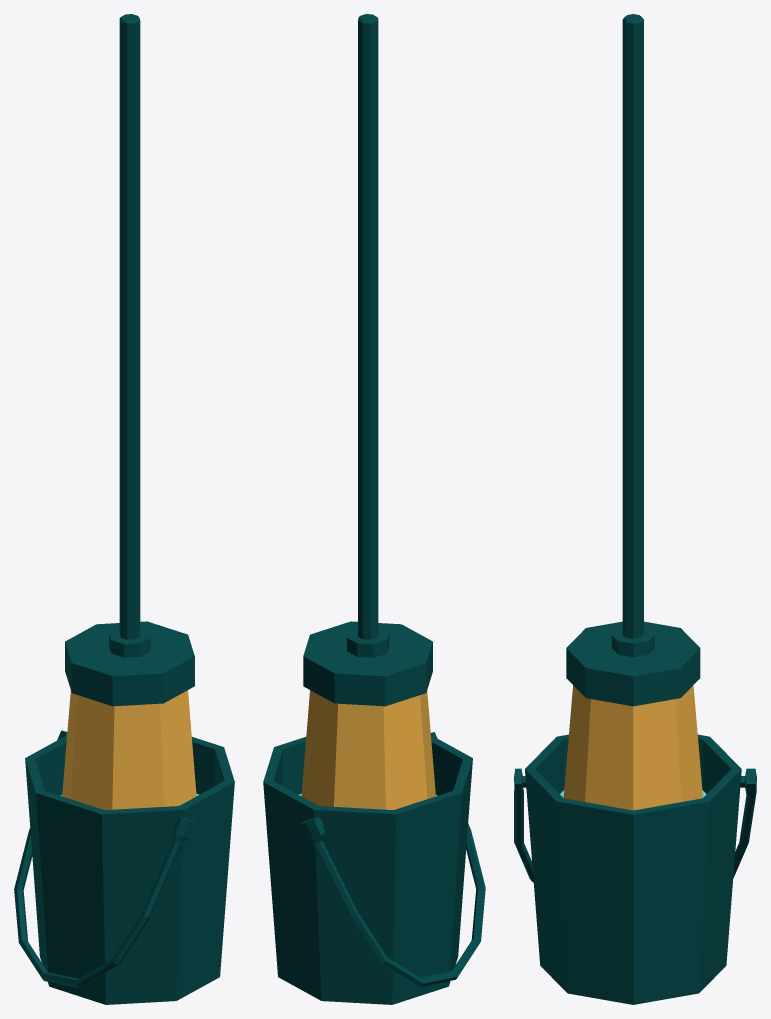
The model's file is bucket & Mop.fbx.
The picture shows the model from 3 angles, left to right: view 1: azimuth 30°, elevation 25°; view 2: azimuth 150°, elevation 25°; view 3: azimuth 270°, elevation 25°; orthographic projection.
Visible parts, largest first — view 1: bucket_1, mop; view 2: bucket_1, mop; view 3: bucket_1, mop.
Boxes of the visible parts, bbox=[...] form: bucket_1: bbox=[14, 730, 234, 1004]; mop: bbox=[62, 14, 196, 809]; bucket_1: bbox=[263, 732, 485, 1004]; mop: bbox=[301, 14, 435, 809]; bucket_1: bbox=[514, 734, 756, 1004]; mop: bbox=[563, 14, 702, 810].
Size of the model in its own units: 0.7587 by 3.66 by 0.8492.
